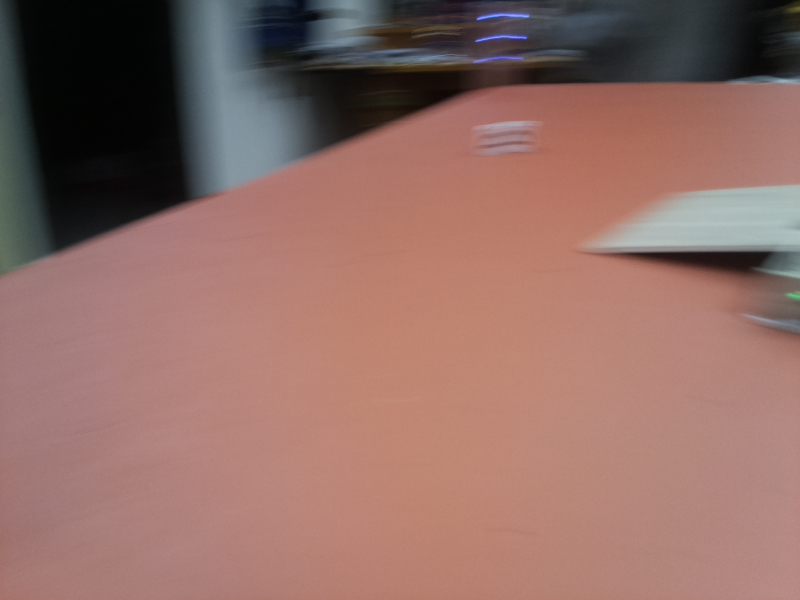blockD: (482, 122, 532, 156)
side: (750, 267, 800, 329)
slope: (574, 182, 800, 254)
